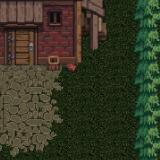Obstacle: (0, 0, 136, 97), (136, 0, 160, 160)
